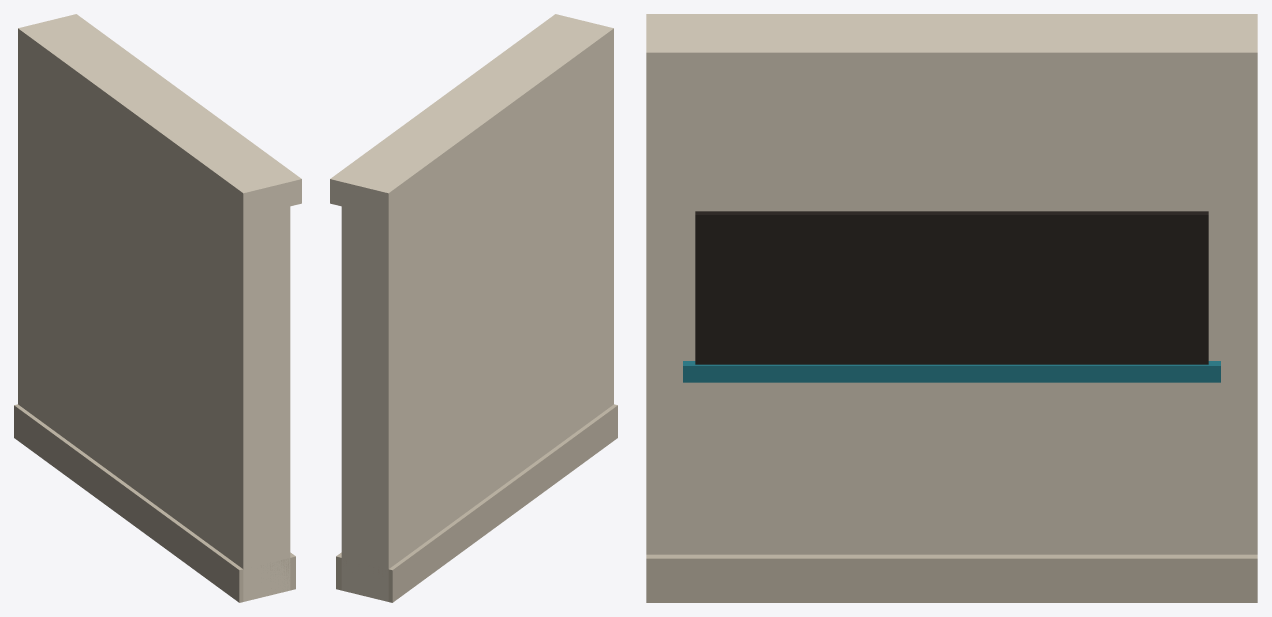
File: wall-modern.glb
3 renders of one model, left to right at view 1: azimuth 30°, elevation 25°; view 2: azimuth 150°, elevation 25°; view 3: azimuth 270°, elevation 25°, orthographic. The views are drawn at different scales.
Visible parts, largest first — view 1: wall-modern; view 2: wall-modern; view 3: wall-modern.
Boxes of the visible parts, x1,y1,x2,y2 form: wall-modern: [14, 14, 301, 602]; wall-modern: [330, 14, 617, 602]; wall-modern: [646, 14, 1257, 602].
Size of the model in its own units: 0.16 by 1 by 1.
